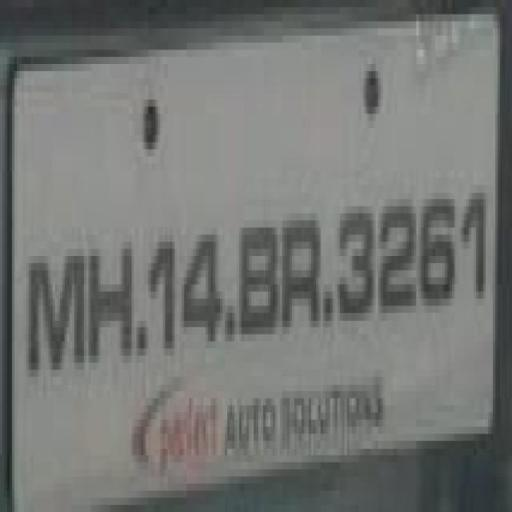number plate: (14, 36, 512, 469)
